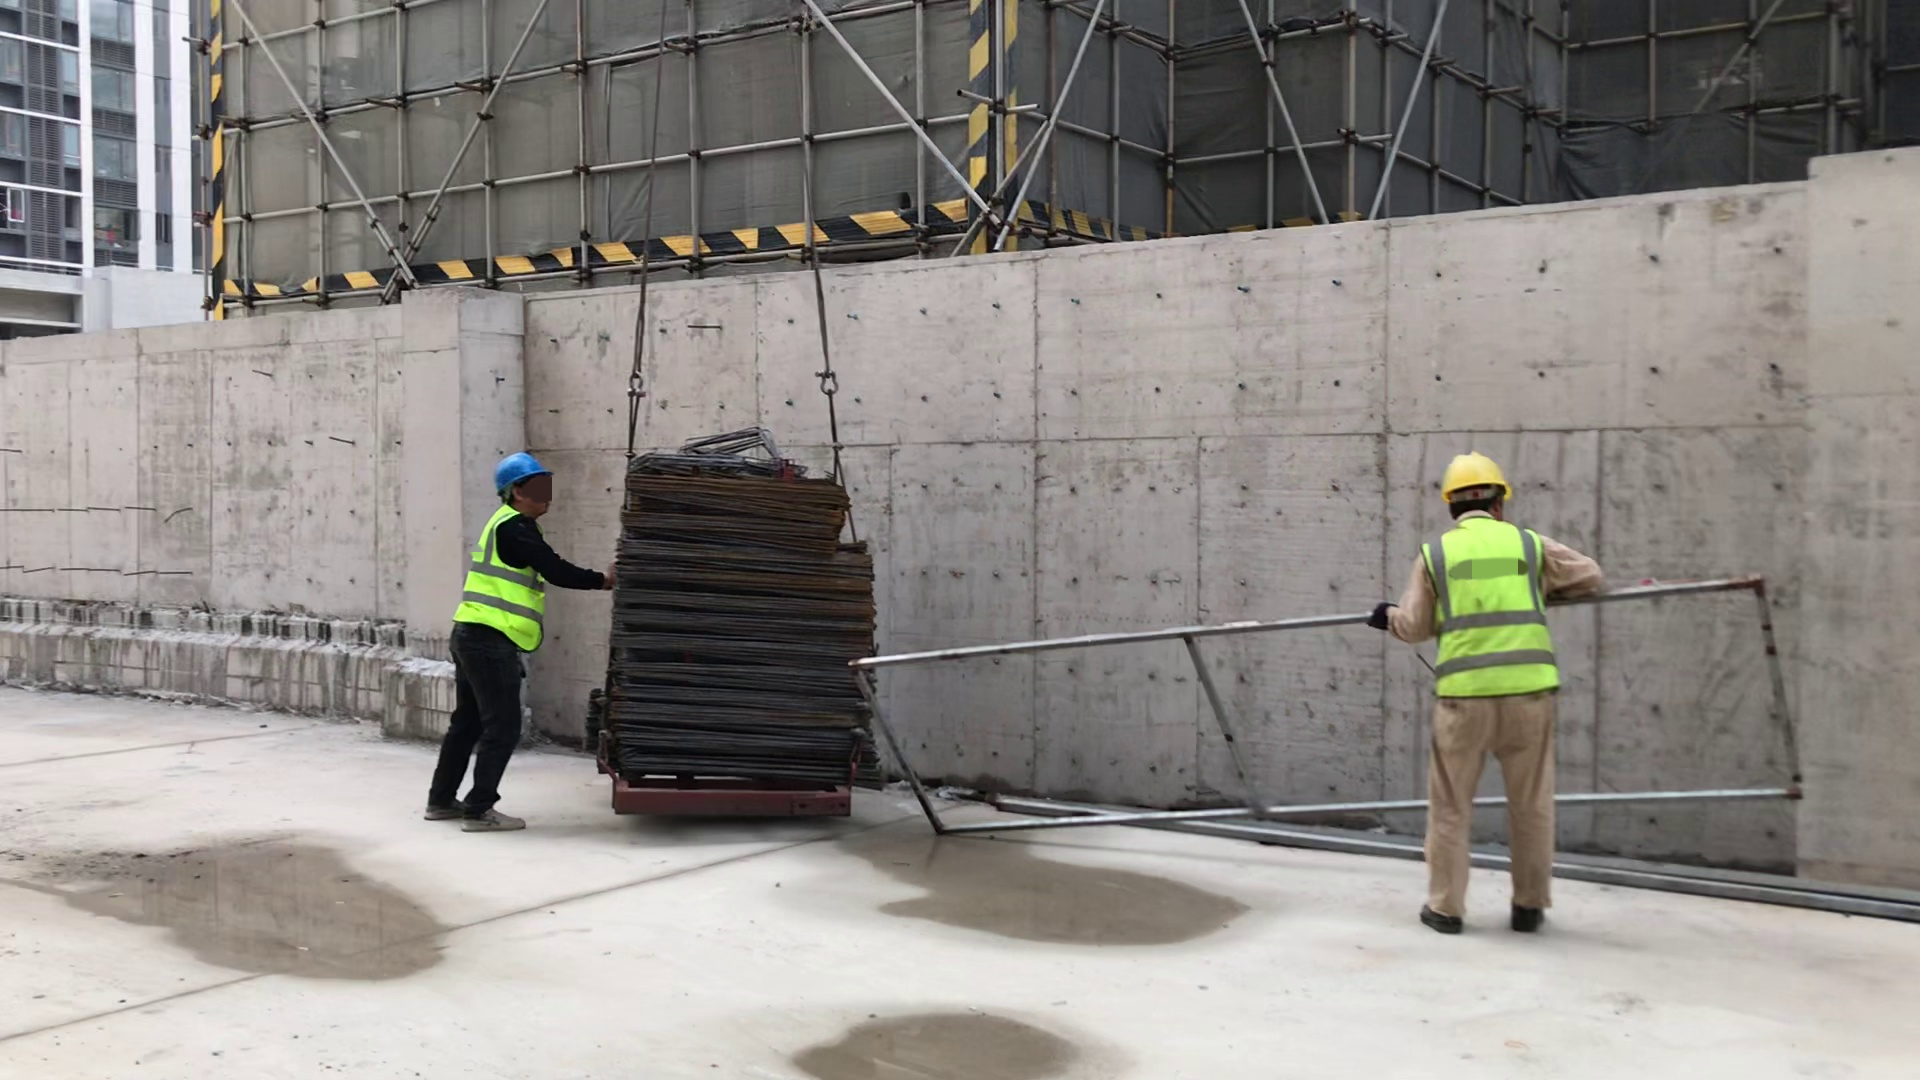helmet: (1433, 435, 1526, 522), (473, 451, 585, 509)
person: (1373, 434, 1566, 927), (441, 450, 599, 828)
vest: (1417, 528, 1557, 698), (465, 510, 551, 645)
